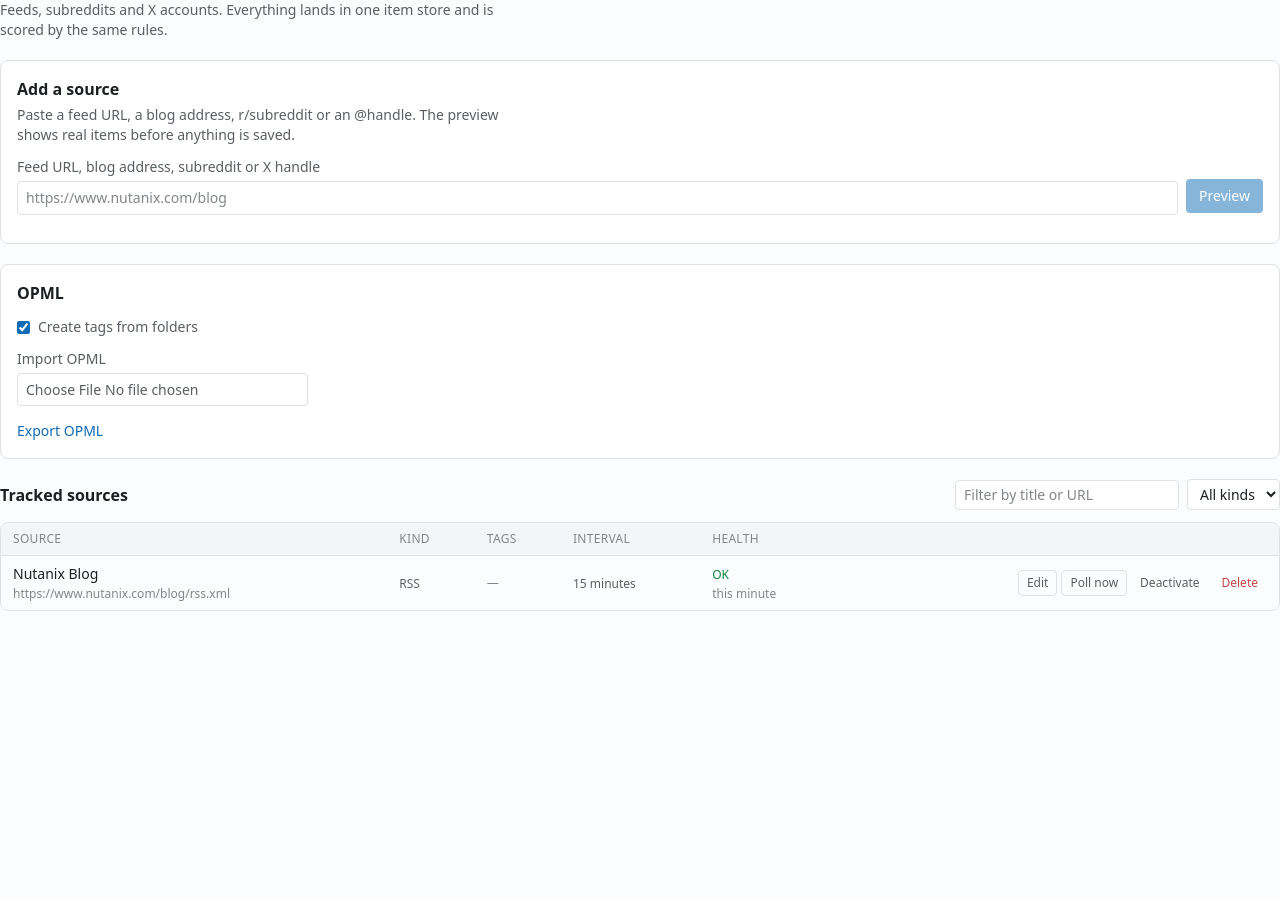
Test case: editing a source › closes on cancel without sending anything
Click the button "Edit". click: (1038, 583)
box: [1018,570,1057,596]
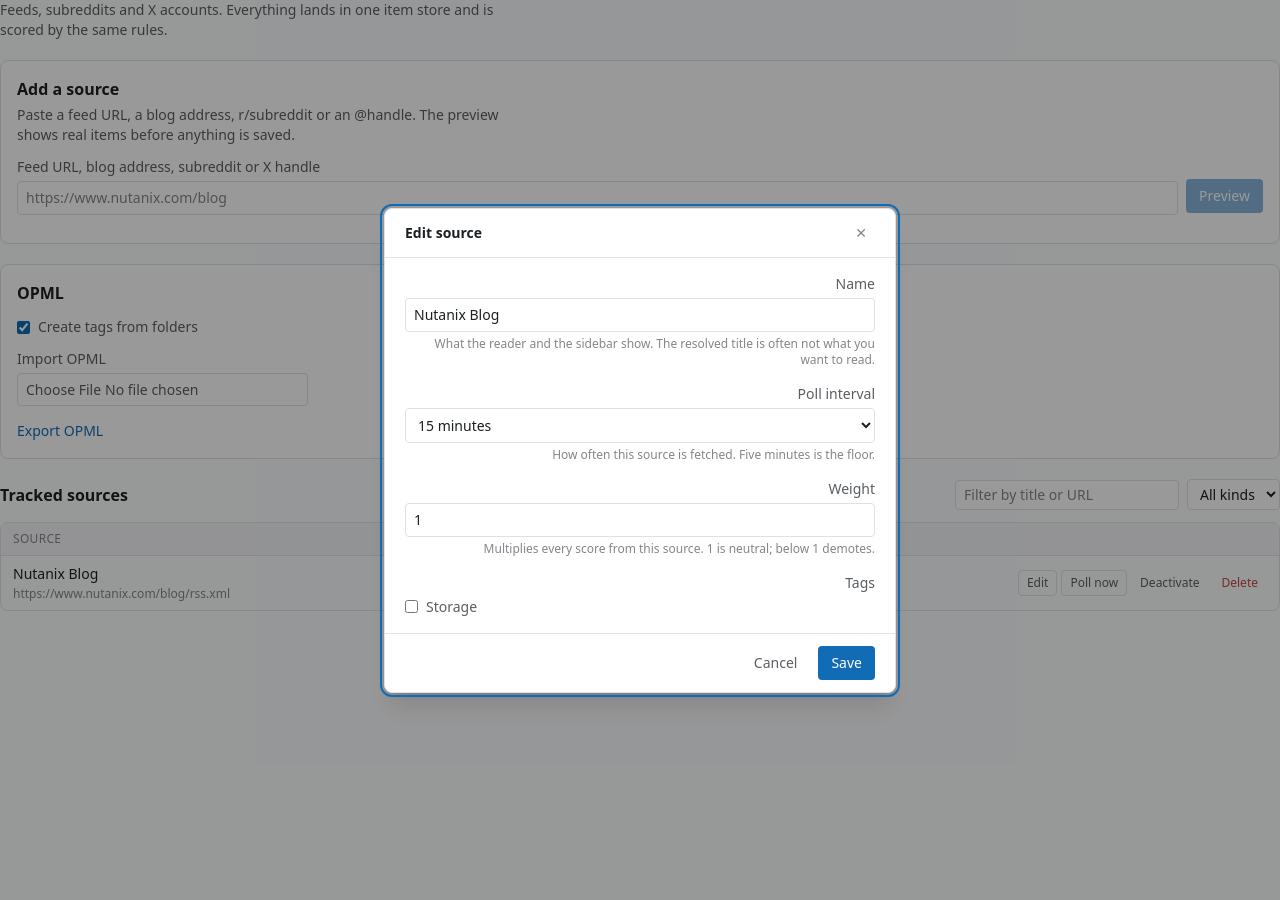
Replace the text in the field labelled "Name" with "Changed". click: (640, 314)
box: [405,298,875,332]
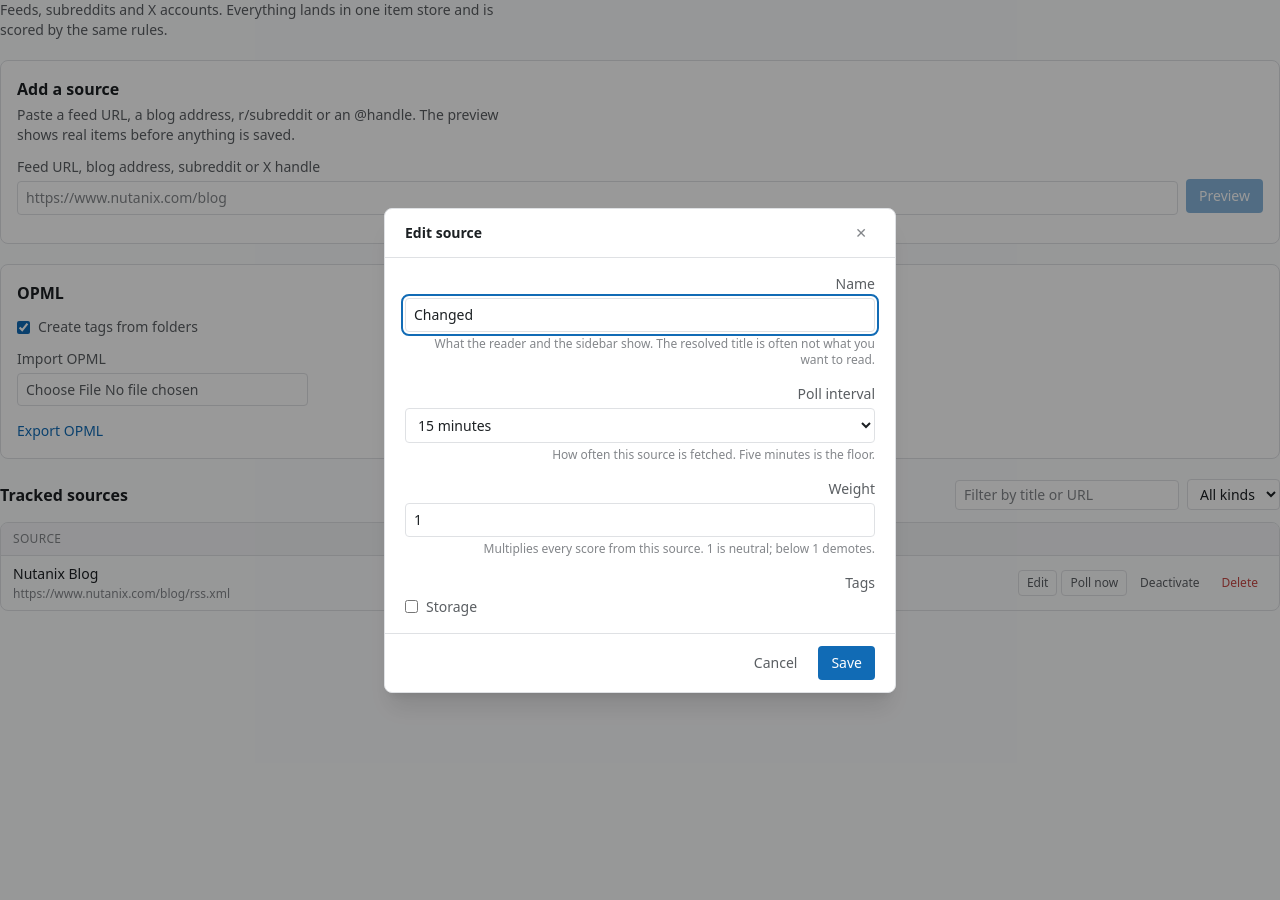
Click the button "Cancel". click: (776, 662)
box: [741,646,810,680]
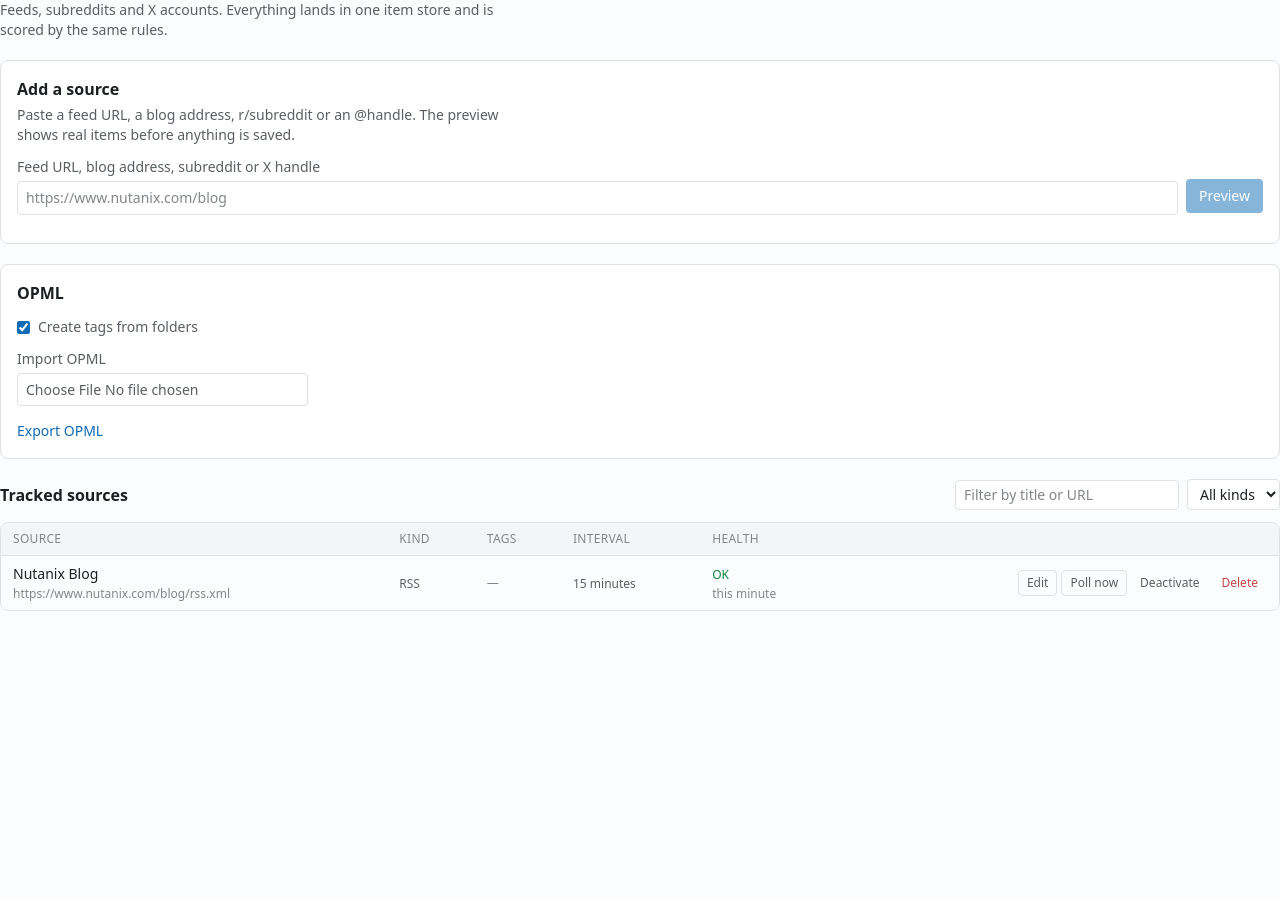
Expected: the dialog is gone
